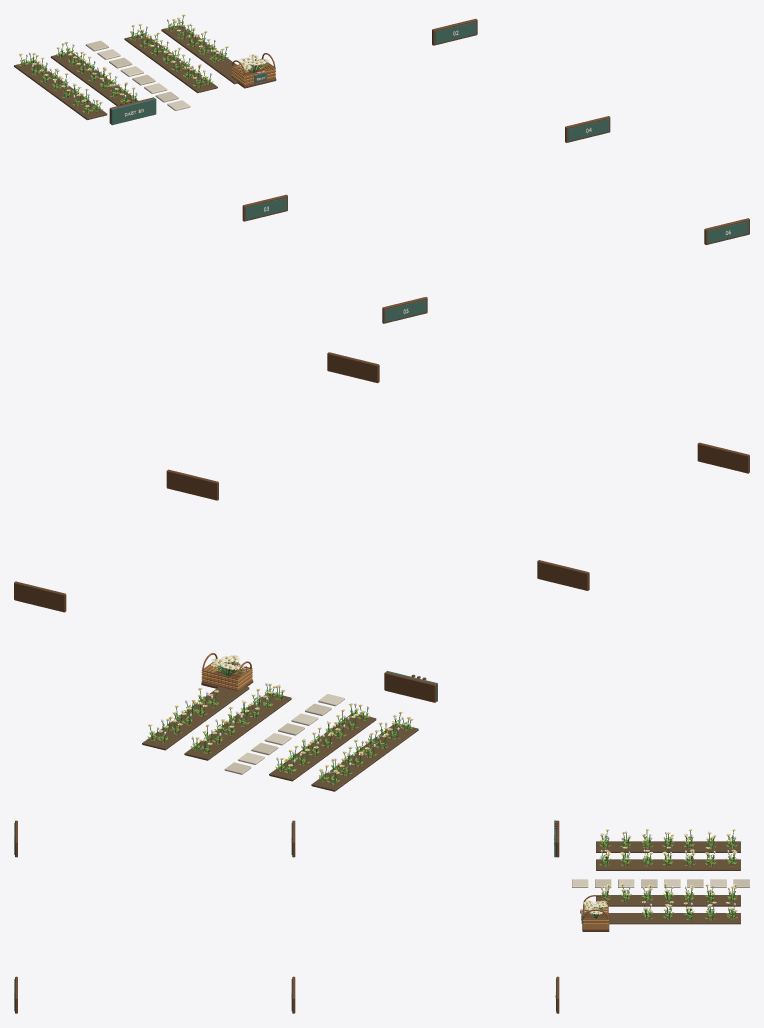
Rendered from daisy.glb.
3 views of the same model, one above another, from view 1: azimuth 30°, elevation 25°; view 2: azimuth 150°, elevation 25°; view 3: azimuth 270°, elevation 25° (orthographic). The views are drawn at different scales.
Parts seen in each view (by area): view 1: daisy_stage_0_habit_soil, neutral_plot_sign_habit_sign, neutral_plot_sign_wooddark, daisy_stage_2_habit_stem, daisy_stage_2_habit_leaf, daisy_stage_2_habit_petal, daisy_stage_0_habit_sign, daisy_stage_1_habit_stem, daisy_stage_1_habit_leaf, daisy_stage_0_paver2, daisy_stage_0_paver, daisy_ready_habit_basket_dark; view 2: daisy_stage_0_habit_soil, neutral_plot_sign_wooddark, daisy_stage_2_habit_stem, daisy_stage_2_habit_leaf, daisy_stage_2_habit_petal, daisy_stage_1_habit_stem, daisy_stage_0_paver, daisy_stage_0_paver2, daisy_stage_1_habit_leaf, daisy_ready_habit_basket_dark; view 3: daisy_stage_0_habit_soil, daisy_stage_2_habit_stem, daisy_stage_2_habit_leaf, neutral_plot_sign_wooddark, daisy_stage_2_habit_petal, daisy_stage_1_habit_leaf, daisy_stage_0_paver, daisy_stage_0_paver2, daisy_stage_1_habit_stem, daisy_ready_habit_basket_dark, daisy_stage_2_habit_pollen, daisy_ready_wooddark.
Boxes of the visible parts, <box> form: daisy_stage_0_habit_soil: <box>14,25,242,119</box>; neutral_plot_sign_habit_sign: <box>245,21,748,322</box>; neutral_plot_sign_wooddark: <box>109,18,749,323</box>; daisy_stage_2_habit_stem: <box>20,16,226,111</box>; daisy_stage_2_habit_leaf: <box>18,21,228,113</box>; daisy_stage_2_habit_petal: <box>19,14,228,106</box>; daisy_stage_0_habit_sign: <box>111,98,156,125</box>; daisy_stage_1_habit_stem: <box>20,21,226,114</box>; daisy_stage_1_habit_leaf: <box>19,24,227,113</box>; daisy_stage_0_paver2: <box>85,40,178,102</box>; daisy_stage_0_paver: <box>97,49,190,110</box>; daisy_ready_habit_basket_dark: <box>231,53,275,85</box>; daisy_stage_0_habit_soil: <box>142,686,418,791</box>; neutral_plot_sign_wooddark: <box>14,352,749,702</box>; daisy_stage_2_habit_stem: <box>150,686,410,782</box>; daisy_stage_2_habit_leaf: <box>147,688,413,784</box>; daisy_stage_2_habit_petal: <box>148,682,412,773</box>; daisy_stage_1_habit_stem: <box>150,689,410,784</box>; daisy_stage_0_paver: <box>238,694,344,764</box>; daisy_stage_0_paver2: <box>224,703,331,774</box>; daisy_stage_1_habit_leaf: <box>148,691,412,784</box>; daisy_ready_habit_basket_dark: <box>201,653,252,690</box>; daisy_stage_0_habit_soil: <box>596,841,740,924</box>; daisy_stage_2_habit_stem: <box>601,831,735,920</box>; daisy_stage_2_habit_leaf: <box>599,836,737,919</box>; neutral_plot_sign_wooddark: <box>15,820,559,1013</box>; daisy_stage_2_habit_petal: <box>600,829,737,912</box>; daisy_stage_1_habit_leaf: <box>600,838,737,919</box>; daisy_stage_0_paver: <box>572,879,726,887</box>; daisy_stage_0_paver2: <box>595,879,749,887</box>; daisy_stage_1_habit_stem: <box>601,836,735,920</box>; daisy_ready_habit_basket_dark: <box>583,895,608,929</box>; daisy_stage_2_habit_pollen: <box>600,829,736,912</box>; daisy_ready_wooddark: <box>582,914,609,931</box>.
Bounding box in the file's own units: 32.24 × 2.33 × 55.74.
